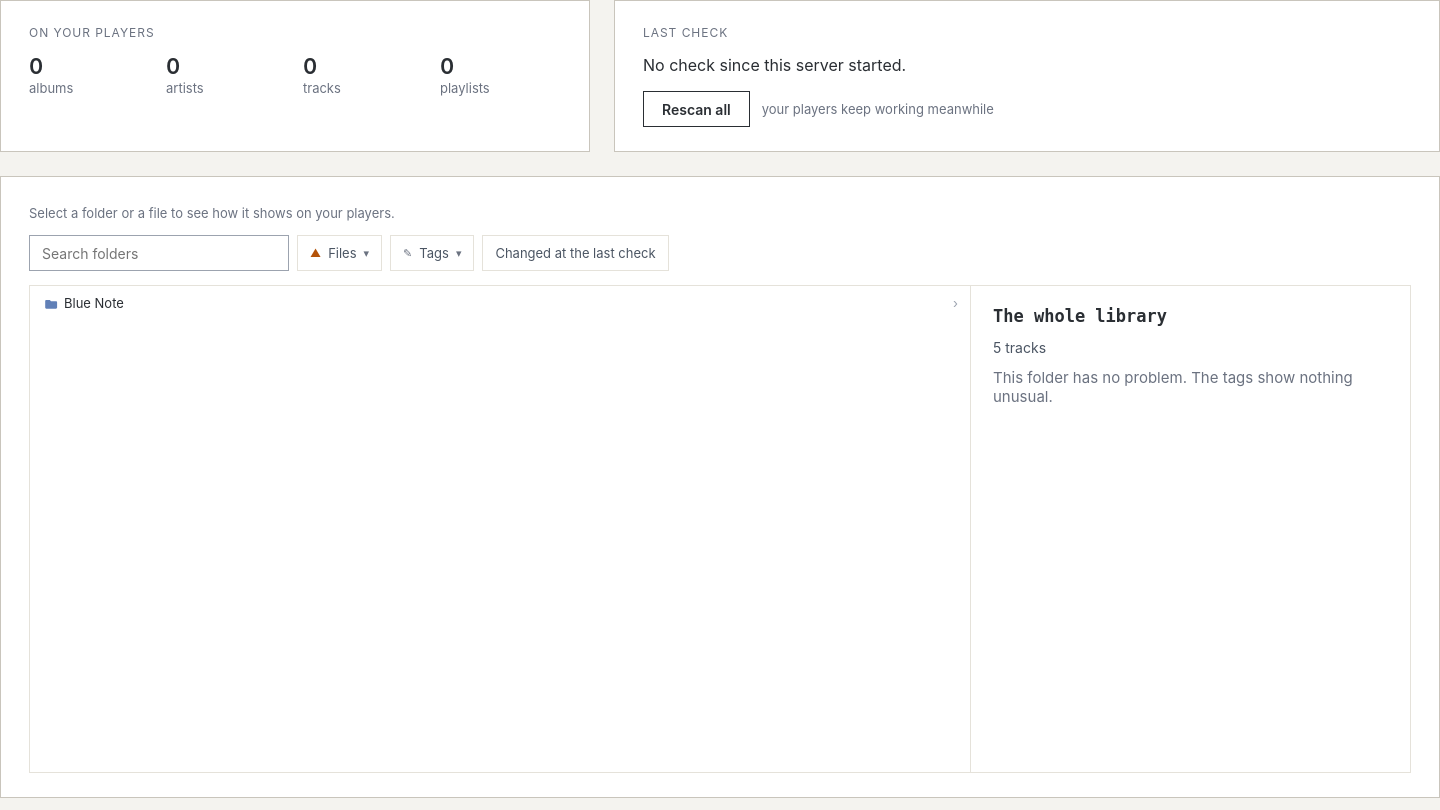
Test: the library page › counts what the boxes hold only once one is ticked
Expected: the text "4" is not shown
Expected: the text "9 files" is not shown
Click the button "✎ Tags ▾" at coordinates (432, 253), box [390,235,474,271]
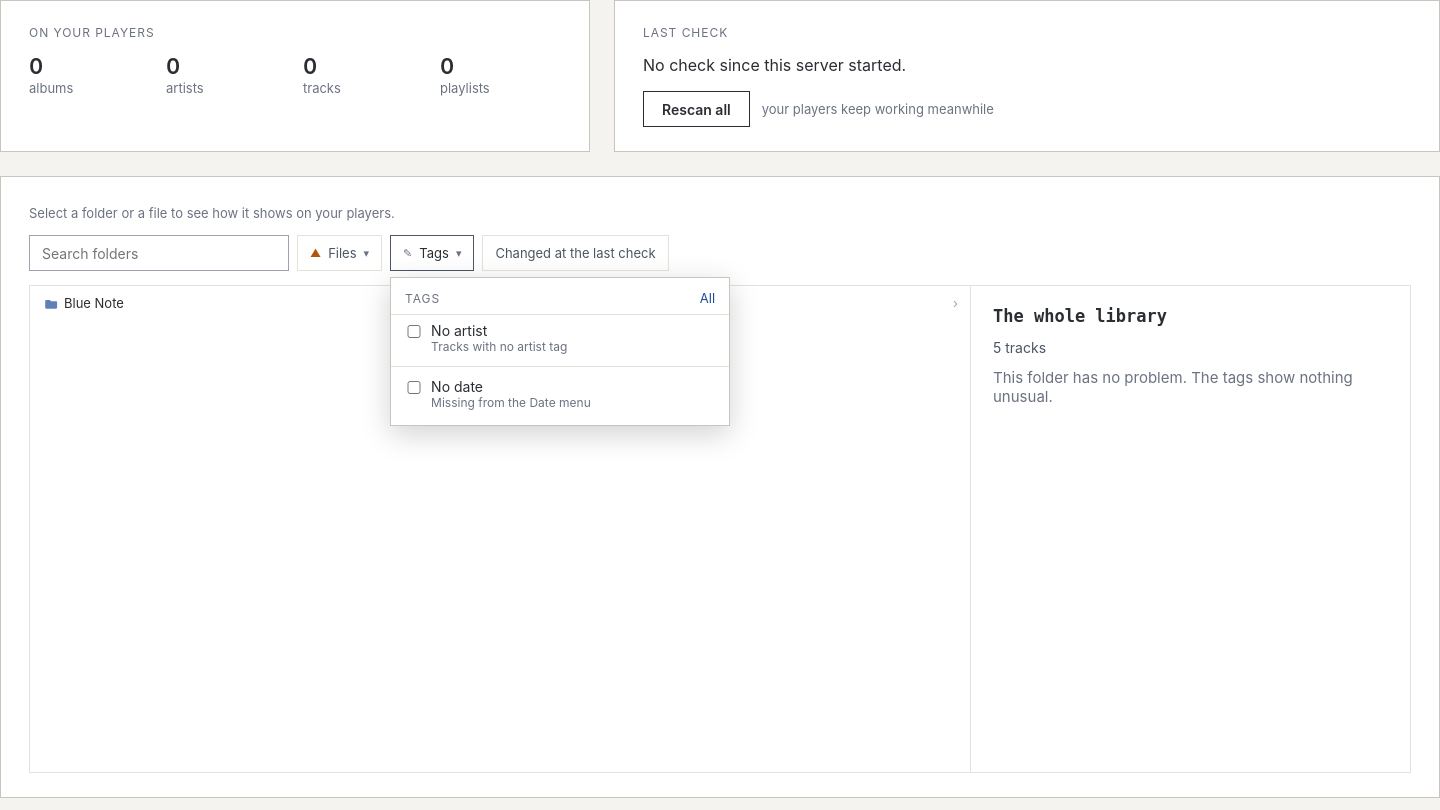
Click the checkbox labelled "No date" at coordinates (414, 388), box [405,381,423,394]
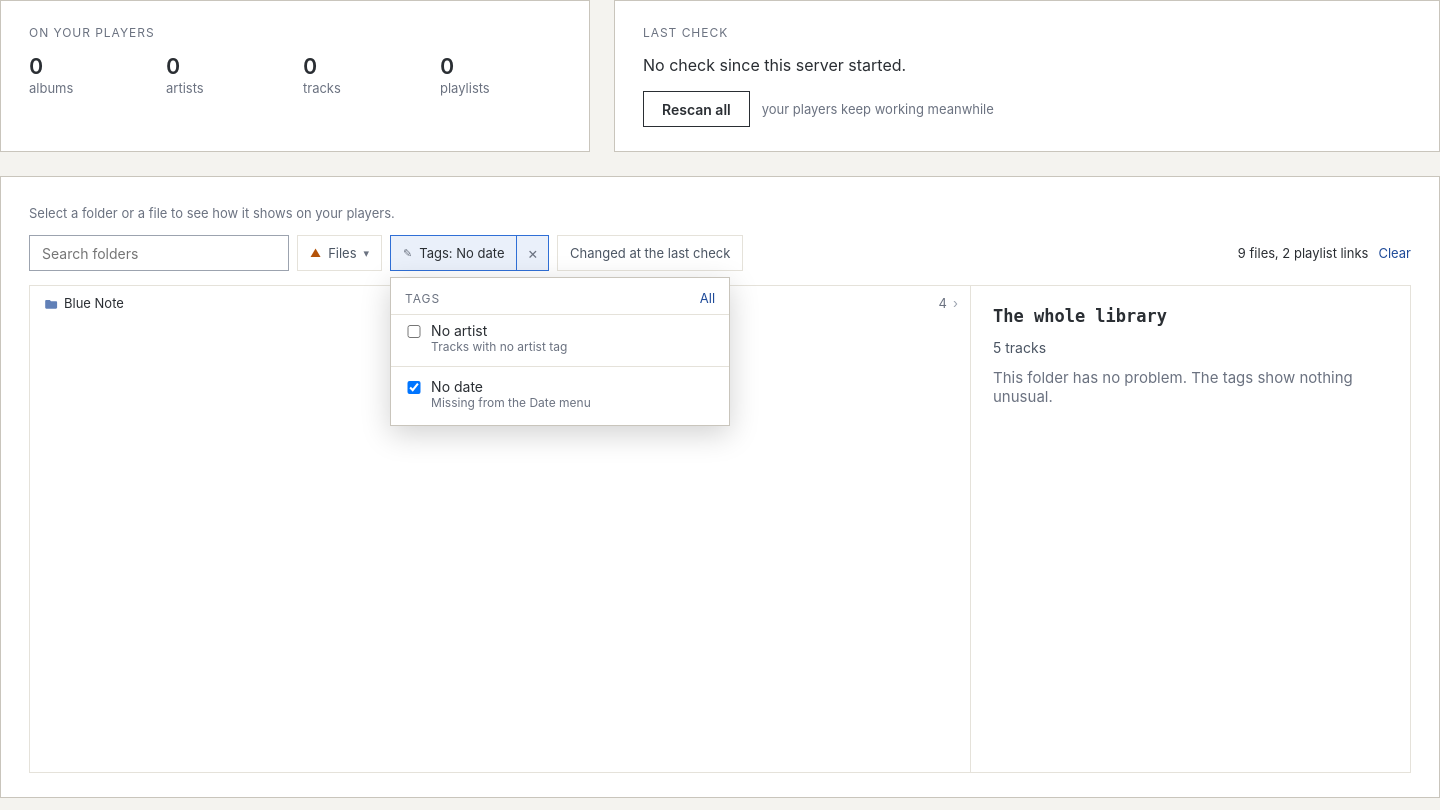
Now the text "4" is shown, box [939,295,947,312]
Now the text "9 files, 2 playlist links Clear" is shown, box [1238,245,1411,261]
